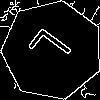L: (27, 25, 81, 75)
